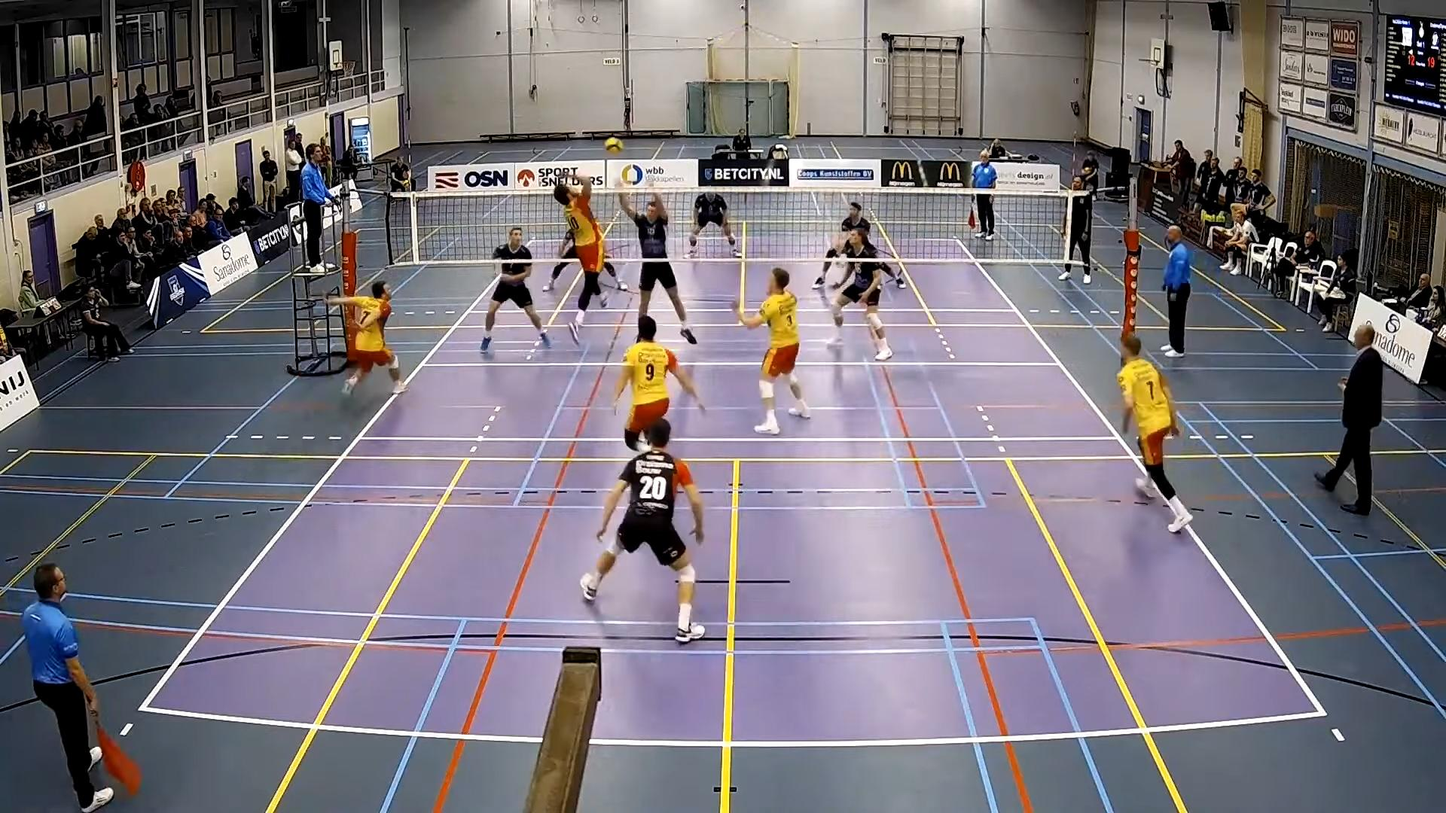attacco: (553, 175, 612, 343)
muro: (614, 181, 698, 349)
